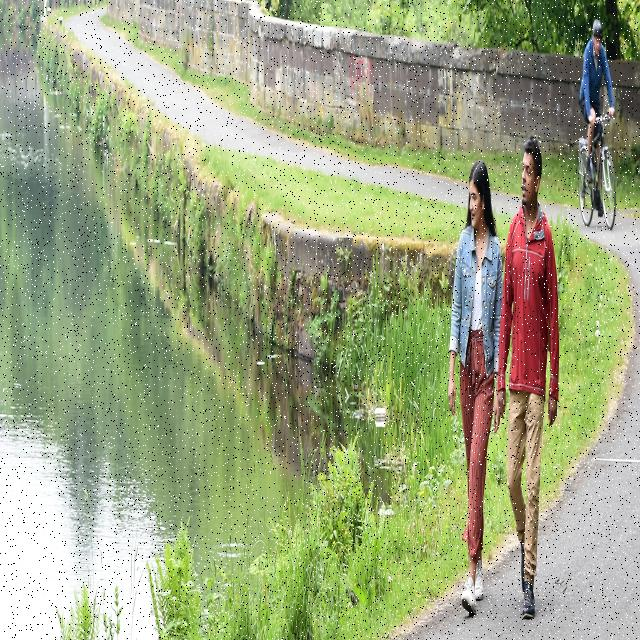Person: (498, 137, 558, 618), (448, 158, 502, 616), (580, 22, 614, 216)
